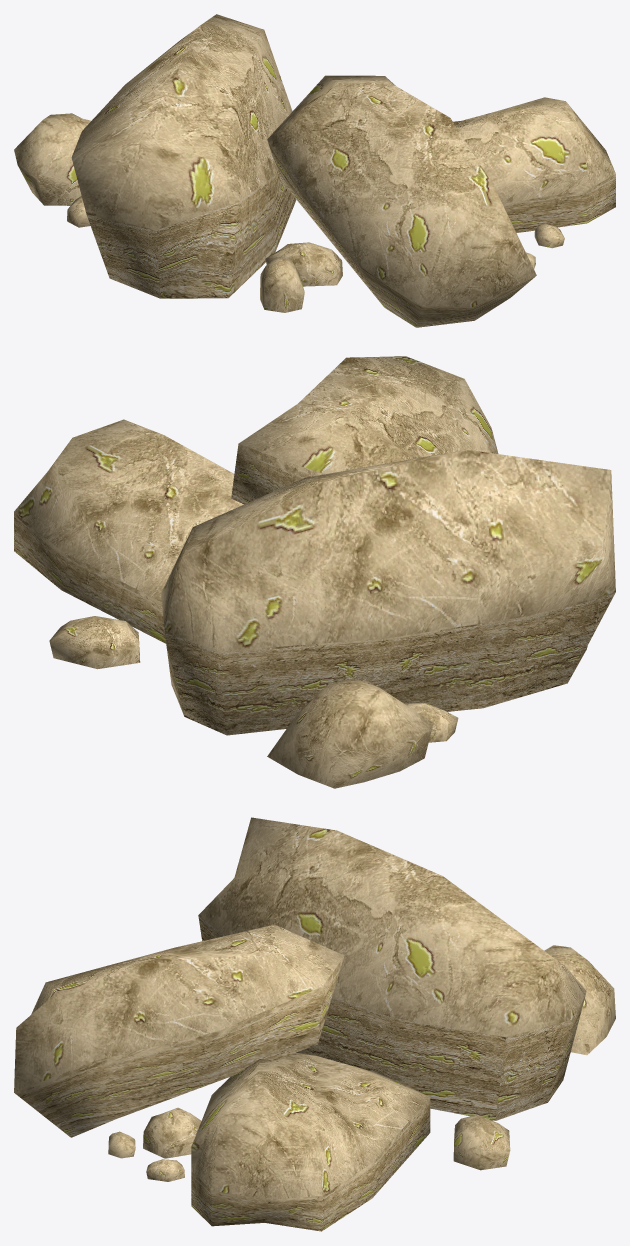
Rendered from geo_mineral_02.glb.
3 renders of one model, top to bottom at view 1: azimuth 30°, elevation 25°; view 2: azimuth 150°, elevation 25°; view 3: azimuth 270°, elevation 25°, orthographic. The views are drawn at different scales.
Parts seen in each view (by area): view 1: geo_mineral_02; view 2: geo_mineral_02; view 3: geo_mineral_02.
Part boxes in pixels (x1=…): geo_mineral_02: x1=14, y1=14, x2=615, y2=327; geo_mineral_02: x1=14, y1=356, x2=615, y2=788; geo_mineral_02: x1=14, y1=817, x2=615, y2=1231.
Bounding box in the file's own units: 16.42 × 6.14 × 15.85.
1 material, 1 textured.
